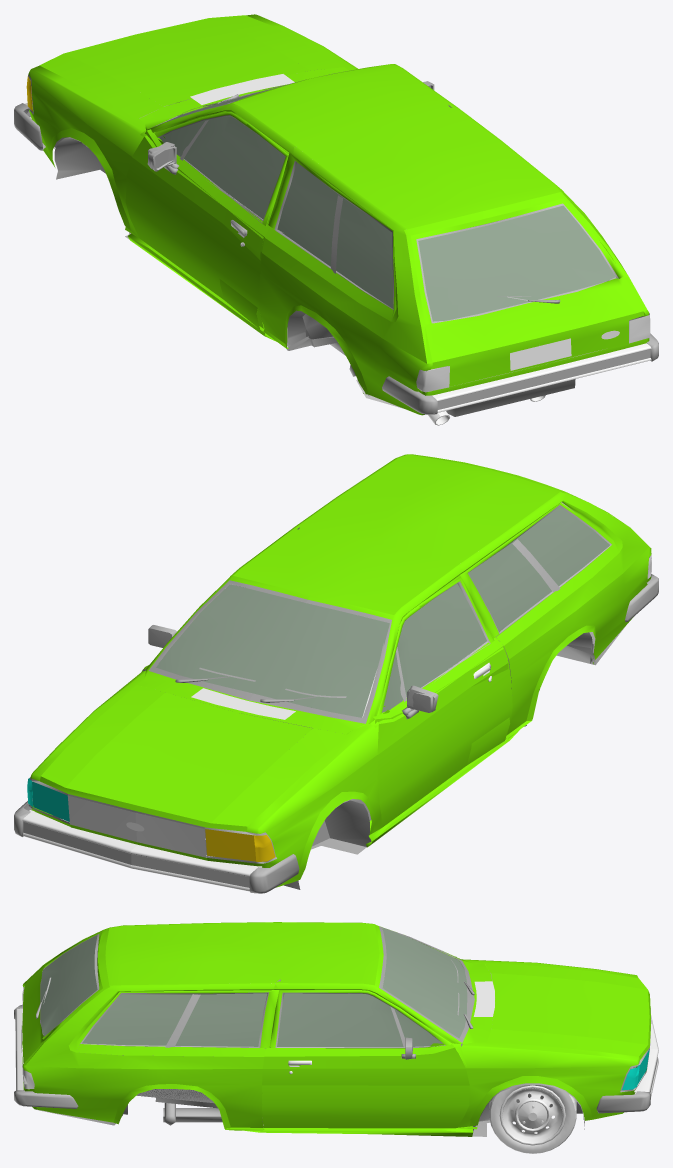
The model's file is Belina.fbx.
3 views of the same model, one above another, from view 1: azimuth 30°, elevation 25°; view 2: azimuth 150°, elevation 25°; view 3: azimuth 270°, elevation 25° (orthographic). The views are drawn at different scales.
Visible parts, largest first — view 1: chassis, boot_ok, door_lf_ok, bonnet_ok, bump_rear_ok, door_lf_dam, Union, lanternas, _int1, bump_front_ok; view 2: chassis, bonnet_ok, door_lf_ok, bump_front_ok, door_lf_dam, Union, lanternas, bump_rear_ok; view 3: chassis, door_rf_ok, bonnet_ok, door_rf_dam, boot_ok, wheel, Union, bump_front_ok, bump_rear_ok, lanternas, _int1.
Boxes of the visible parts, x1,y1,x2,y2 form: chassis: (28,14,649,425); boot_ok: (411,198,644,386); door_lf_ok: (125,112,289,328); bonnet_ok: (39,15,343,119); bump_rear_ok: (382,333,658,414); door_lf_dam: (145,111,288,328); Union: (54,103,575,416); lanternas: (26,76,650,392); _int1: (177,98,643,385); bump_front_ok: (14,103,45,150); chassis: (28,454,651,887); bonnet_ok: (40,685,347,831); door_lf_ok: (377,575,512,827); bump_front_ok: (14,800,299,893); door_lf_dam: (373,576,510,765); Union: (284,625,626,889); lanternas: (27,553,651,861); bump_rear_ok: (625,574,658,622); chassis: (22,922,651,1136); door_rf_ok: (262,993,469,1128); bonnet_ok: (484,963,650,1059); door_rf_dam: (262,990,469,1093); boot_ok: (21,931,102,1063); wheel: (489,1085,576,1153); Union: (36,1083,584,1136); bump_front_ok: (596,1008,658,1113); bump_rear_ok: (14,1004,78,1108); lanternas: (22,987,649,1090); _int1: (97,979,350,1121).
Size of the model in its own units: 218 by 153 by 550.
